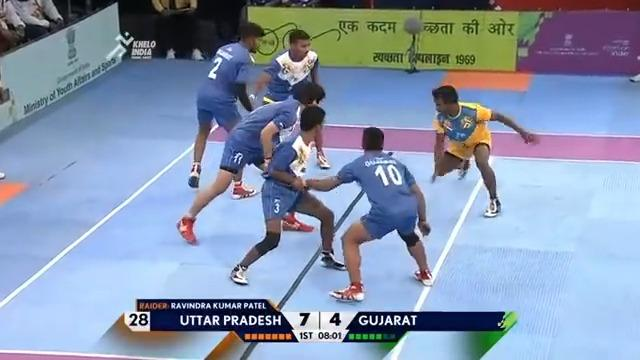Player: (175, 81, 327, 245), (302, 126, 434, 302), (228, 104, 347, 285), (187, 21, 268, 198), (252, 28, 327, 174)
Raider: (429, 84, 537, 217)
